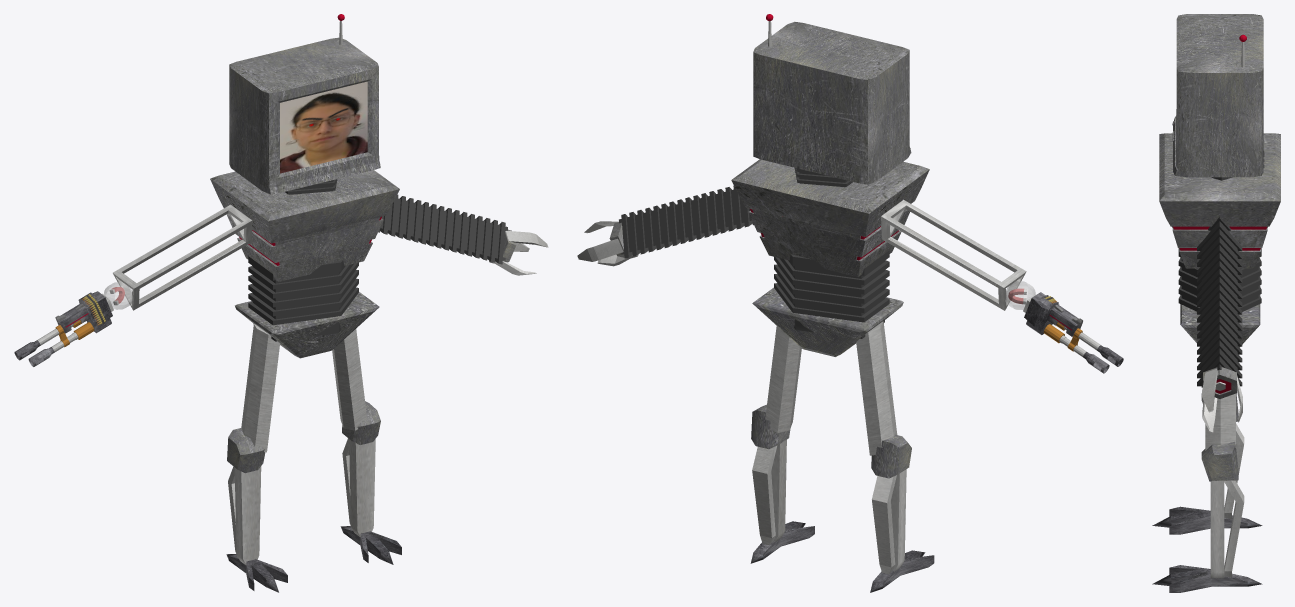
The model's file is SaymondRobot.fbx.
3 renders of one model, left to right at view 1: azimuth 30°, elevation 25°; view 2: azimuth 150°, elevation 25°; view 3: azimuth 270°, elevation 25°, orthographic. The views are drawn at different scales.
Visible parts, largest first — view 1: Dator, Chest, Svart1, BenN1 (×2), ArmL, ArmH, Höft, BenU1, BenU2, Knä1 (×2), Ben2, Ben1 (+2 smaller); view 2: Dator, Chest, Svart1, BenN1 (×2), ArmL, ArmH, Höft, BenU1, BenU2, Knä1 (×2), Klo, Barrels (+2 smaller); view 3: Dator, Chest, ArmL, BenN1 (×2), Svart1, Ben2, Klo, Ben1, Knä1, BenU2, Höft.
Boxes of the visible parts, x1=… form: Dator: x1=229, y1=37, x2=380, y2=194; Chest: x1=210, y1=170, x2=399, y2=281; Svart1: x1=248, y1=256, x2=358, y2=341; BenN1 (×2): x1=228, y1=438, x2=375, y2=565; ArmL: x1=378, y1=194, x2=507, y2=264; ArmH: x1=113, y1=204, x2=252, y2=310; Höft: x1=235, y1=292, x2=379, y2=358; BenU1: x1=241, y1=324, x2=279, y2=452; BenU2: x1=332, y1=329, x2=367, y2=430; Knä1 (×2): x1=227, y1=401, x2=380, y2=473; Ben2: x1=340, y1=526, x2=401, y2=564; Ben1: x1=226, y1=554, x2=287, y2=592; Dator: x1=753, y1=21, x2=911, y2=184; Chest: x1=731, y1=159, x2=929, y2=276; Svart1: x1=774, y1=250, x2=889, y2=338; BenN1 (×2): x1=752, y1=440, x2=906, y2=574; ArmL: x1=619, y1=185, x2=753, y2=258; ArmH: x1=881, y1=199, x2=1026, y2=310; Höft: x1=752, y1=287, x2=903, y2=356; BenU1: x1=856, y1=321, x2=897, y2=455; BenU2: x1=765, y1=326, x2=801, y2=433; Knä1 (×2): x1=751, y1=404, x2=911, y2=478; Klo: x1=577, y1=221, x2=638, y2=266; Barrels: x1=1059, y1=327, x2=1123, y2=373; Dator: x1=1173, y1=14, x2=1263, y2=177; Chest: x1=1159, y1=133, x2=1280, y2=268; ArmL: x1=1197, y1=217, x2=1242, y2=387; BenN1 (×2): x1=1210, y1=423, x2=1244, y2=578; Svart1: x1=1178, y1=248, x2=1261, y2=311; Ben2: x1=1152, y1=565, x2=1262, y2=592; Klo: x1=1202, y1=367, x2=1242, y2=432; Ben1: x1=1152, y1=506, x2=1262, y2=534; Knä1: x1=1201, y1=441, x2=1238, y2=481; BenU2: x1=1205, y1=393, x2=1235, y2=450; Höft: x1=1180, y1=276, x2=1260, y2=347.
Size of the model in its own units: 19.66 by 18.71 by 4.01.
13 materials, 5 textured.
